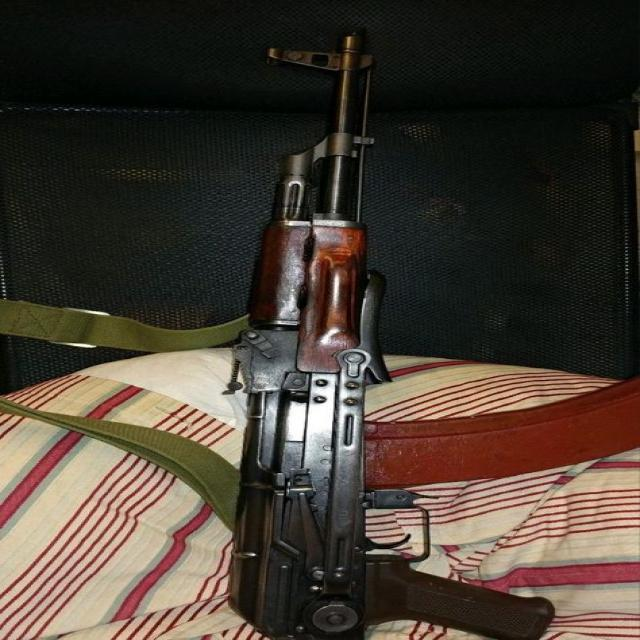ak: (221, 23, 563, 638)
